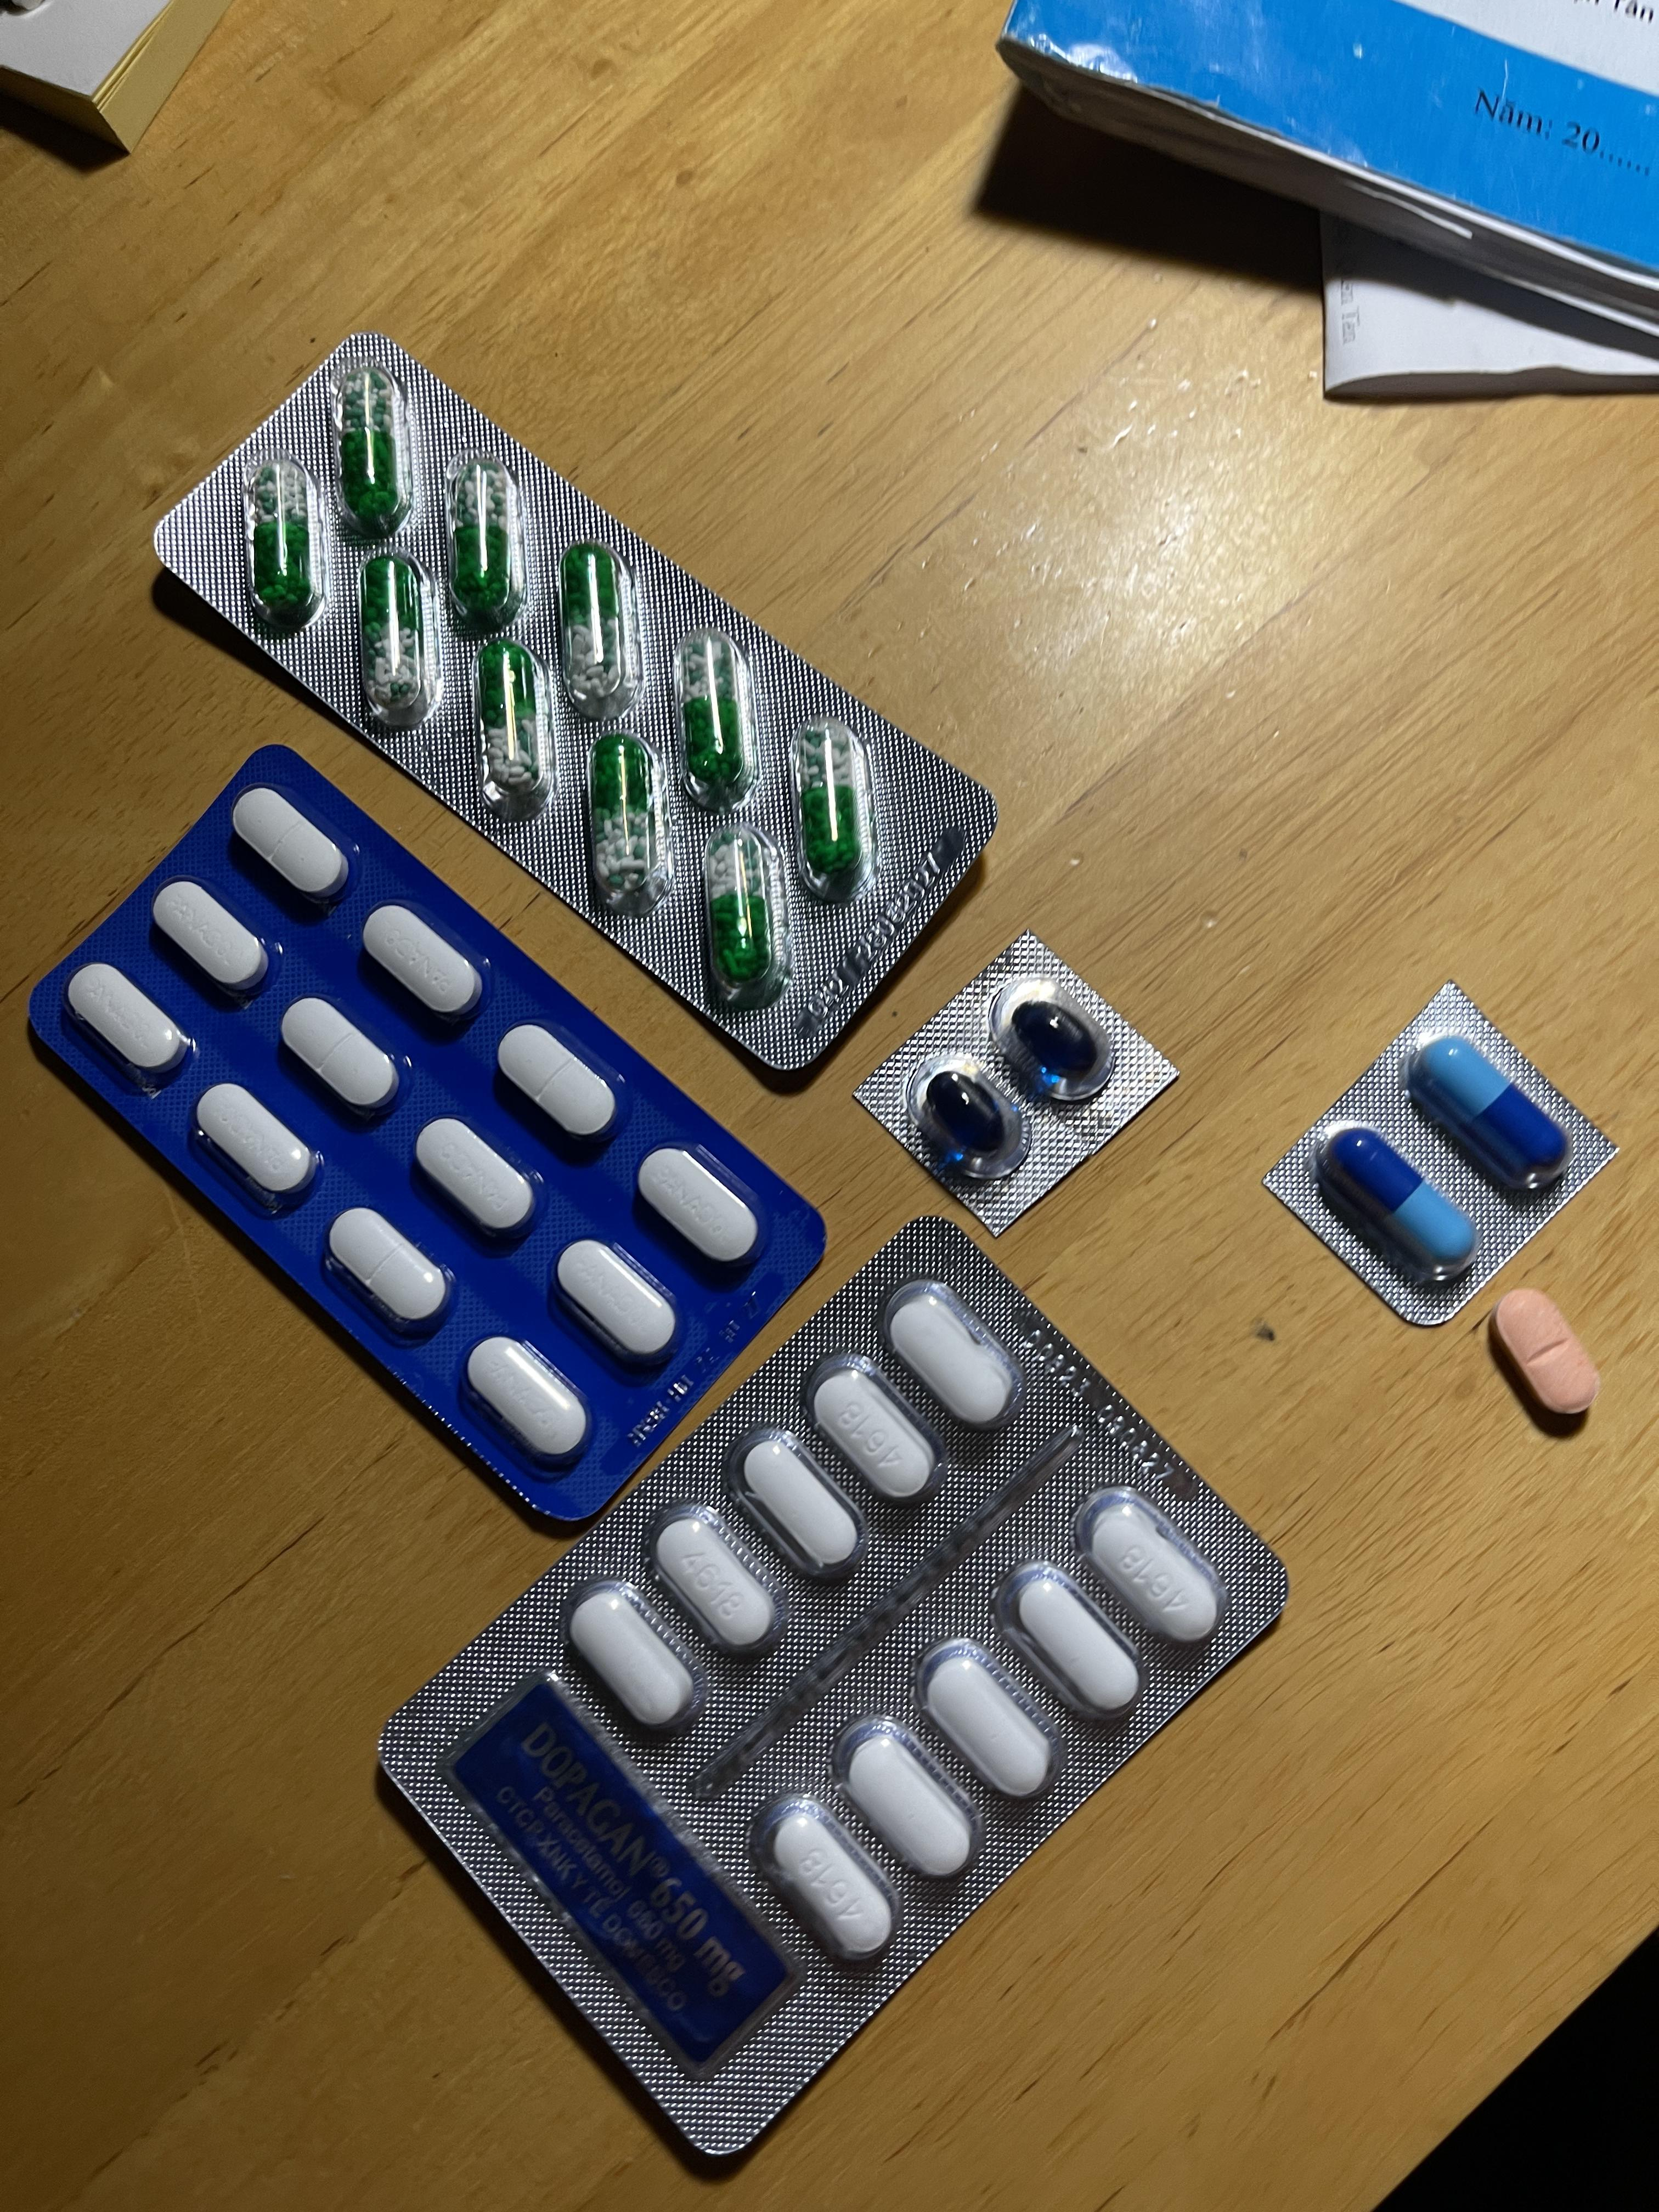Lincomyxin_500mg: (927, 1071, 1007, 1150), (1012, 1000, 1094, 1075)
Loratadine_10mg: (1492, 1287, 1600, 1416)
Paracetamol_350mg: (552, 1242, 680, 1376), (462, 1338, 589, 1470), (324, 1207, 451, 1339), (415, 1116, 540, 1244), (638, 1146, 765, 1271), (195, 1085, 317, 1211), (498, 1024, 620, 1148), (66, 963, 188, 1085), (281, 998, 399, 1120), (362, 904, 483, 1022), (232, 786, 352, 900), (153, 881, 270, 996)
Paracetamol_500mg: (751, 1792, 901, 1966), (1073, 1489, 1225, 1656), (911, 1639, 1061, 1801), (880, 1278, 1028, 1428), (648, 1503, 788, 1662), (800, 1359, 939, 1512), (565, 1578, 704, 1731), (840, 1726, 978, 1878), (1004, 1568, 1138, 1716), (741, 1432, 861, 1564)
Paracetamol_650mg: (328, 354, 413, 540), (444, 455, 525, 634), (678, 629, 756, 806), (556, 547, 634, 718), (791, 723, 871, 888), (359, 556, 436, 726), (589, 735, 664, 904), (476, 644, 549, 812), (249, 460, 314, 624), (706, 819, 770, 977)
pill: (1412, 1036, 1565, 1186), (1324, 1125, 1471, 1275)
